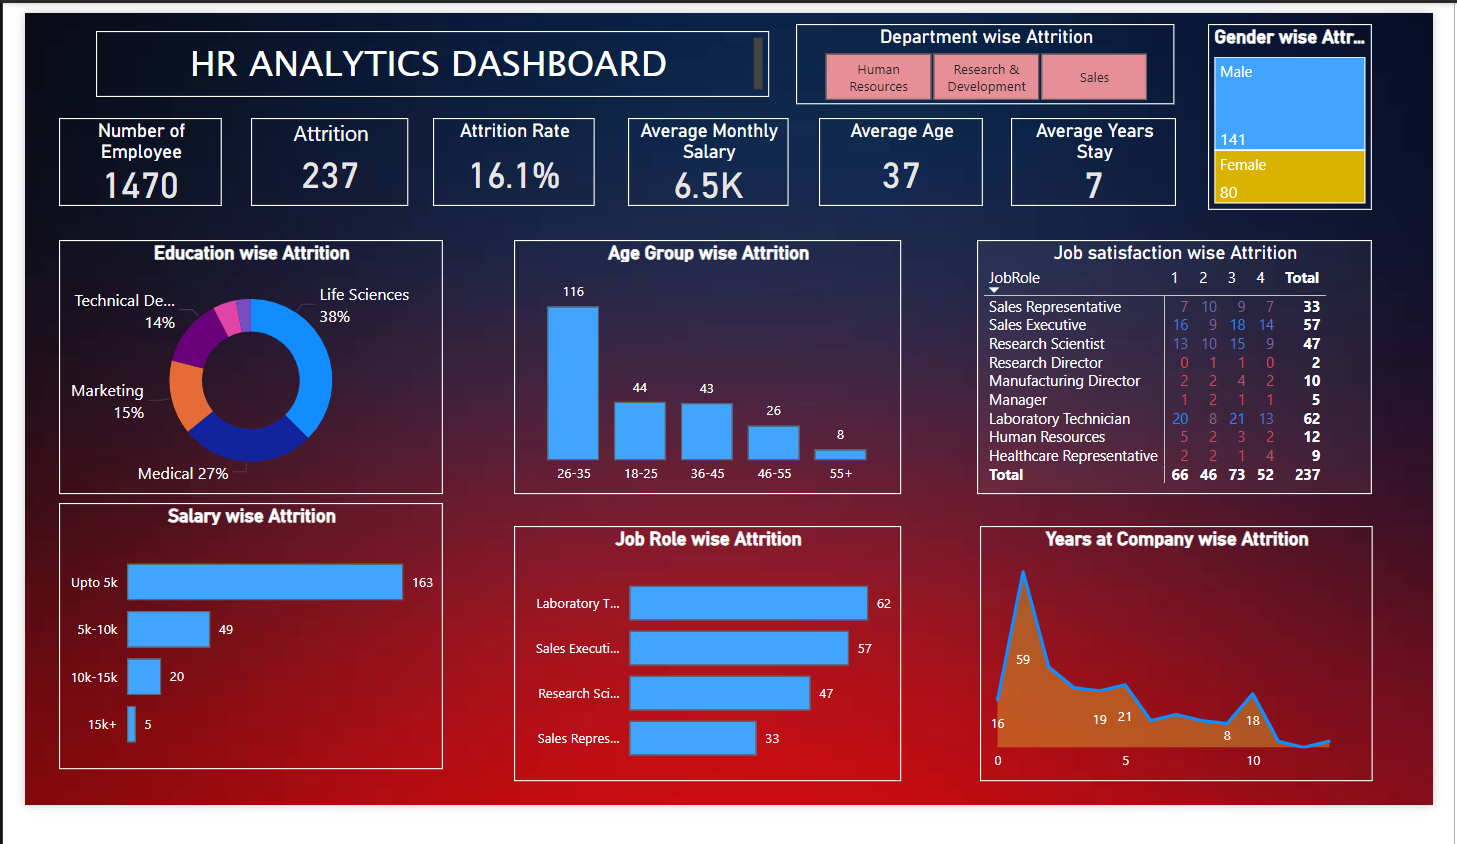

Layout of this report page (visuals, bound fields, positions):
{"tool":"powerbi","page":{"name":"Page 1","canvas":[1280,720],"ordinal":0},"visuals":[{"type":"card","title":"Number of Employee","fields":{"Values":["CountNonNull(HR_Analytics.EmpID)"]},"box":[31.1,95.6,147.8,80],"z":0},{"type":"card","title":"Attrition","fields":{"Values":["Sum(HR_Analytics.AttritionCount)"]},"box":[205.6,95.6,143.3,80],"z":1000},{"type":"card","title":"Attrition Rate","fields":{"Values":["HR_Analytics.AttritionRate"]},"box":[371.1,95.6,146.7,80],"z":2000},{"type":"card","title":"Average Monthly Salary","fields":{"Values":["Avg(HR_Analytics.MonthlyIncome)"]},"box":[547.8,95.6,145.6,80],"z":3000},{"type":"card","title":"Average Age","fields":{"Values":["Avg(HR_Analytics.Age)"]},"box":[722.2,95.6,148.9,80],"z":4000},{"type":"card","title":"Average Years Stay","fields":{"Values":["Avg(HR_Analytics.YearsAtCompany)"]},"box":[896.7,95.6,150,80],"z":5000},{"type":"donutChart","title":"Education wise Attrition ","fields":{"Category":["HR_Analytics.EducationField"],"Y":["Sum(HR_Analytics.AttritionCount)"]},"box":[31.1,206.7,348.9,231.1],"z":6000},{"type":"columnChart","title":"Age Group wise Attrition ","fields":{"Category":["HR_Analytics.AgeGroup"],"Y":["Sum(HR_Analytics.AttritionCount)"]},"box":[444.4,206.7,352.2,231.1],"z":7000},{"type":"pivotTable","title":"Job satisfaction wise Attrition","fields":{"Rows":["HR_Analytics.JobRole"],"Columns":["HR_Analytics.JobSatisfaction"],"Values":["Sum(HR_Analytics.AttritionCount)"]},"box":[865.6,206.7,358.9,231.1],"z":8000},{"type":"clusteredBarChart","title":"Salary wise Attrition ","fields":{"Category":["HR_Analytics.SalarySlab"],"Y":["Sum(HR_Analytics.AttritionCount)"]},"box":[31.1,445.6,348.9,242.2],"z":9000},{"type":"clusteredBarChart","title":"Job Role wise Attrition ","fields":{"Y":["Sum(HR_Analytics.AttritionCount)"],"Category":["HR_Analytics.JobRole"]},"box":[444.4,466.7,352.2,232.2],"z":10000},{"type":"stackedAreaChart","title":"Years at Company wise Attrition ","fields":{"Category":["HR_Analytics.YearsAtCompany"],"Y":["Sum(HR_Analytics.AttritionCount)"]},"box":[867.8,466.7,356.7,232.2],"z":11000},{"type":"treemap","title":"Gender wise Attrition ","fields":{"Group":["HR_Analytics.Gender"],"Values":["Sum(HR_Analytics.AttritionCount)"]},"box":[1075.6,10,148.9,168.9],"z":12000},{"type":"slicer","title":"Department wise Attrition","fields":{"Values":["HR_Analytics.Department"]},"box":[701.1,10,344.4,73.3],"z":13000},{"type":"textbox","box":[64.4,16.7,612.2,60],"z":14000}]}

Visuals, with their boxes in screenshot pixels (x1, y1, x2, y2), scaled from the page's 1280x720 canvas onto the 1457x844 screenshot:
"Number of Employee" card: {"left": 35, "top": 112, "right": 204, "bottom": 206}
"Attrition" card: {"left": 234, "top": 112, "right": 397, "bottom": 206}
"Attrition Rate" card: {"left": 422, "top": 112, "right": 589, "bottom": 206}
"Average Monthly Salary" card: {"left": 624, "top": 112, "right": 789, "bottom": 206}
"Average Age" card: {"left": 822, "top": 112, "right": 992, "bottom": 206}
"Average Years Stay" card: {"left": 1021, "top": 112, "right": 1191, "bottom": 206}
"Education wise Attrition " donutChart: {"left": 35, "top": 242, "right": 433, "bottom": 513}
"Age Group wise Attrition " columnChart: {"left": 506, "top": 242, "right": 907, "bottom": 513}
"Job satisfaction wise Attrition" pivotTable: {"left": 985, "top": 242, "right": 1394, "bottom": 513}
"Salary wise Attrition " clusteredBarChart: {"left": 35, "top": 522, "right": 433, "bottom": 806}
"Job Role wise Attrition " clusteredBarChart: {"left": 506, "top": 547, "right": 907, "bottom": 819}
"Years at Company wise Attrition " stackedAreaChart: {"left": 988, "top": 547, "right": 1394, "bottom": 819}
"Gender wise Attrition " treemap: {"left": 1224, "top": 12, "right": 1394, "bottom": 210}
"Department wise Attrition" slicer: {"left": 798, "top": 12, "right": 1190, "bottom": 98}
textbox: {"left": 73, "top": 20, "right": 770, "bottom": 90}
